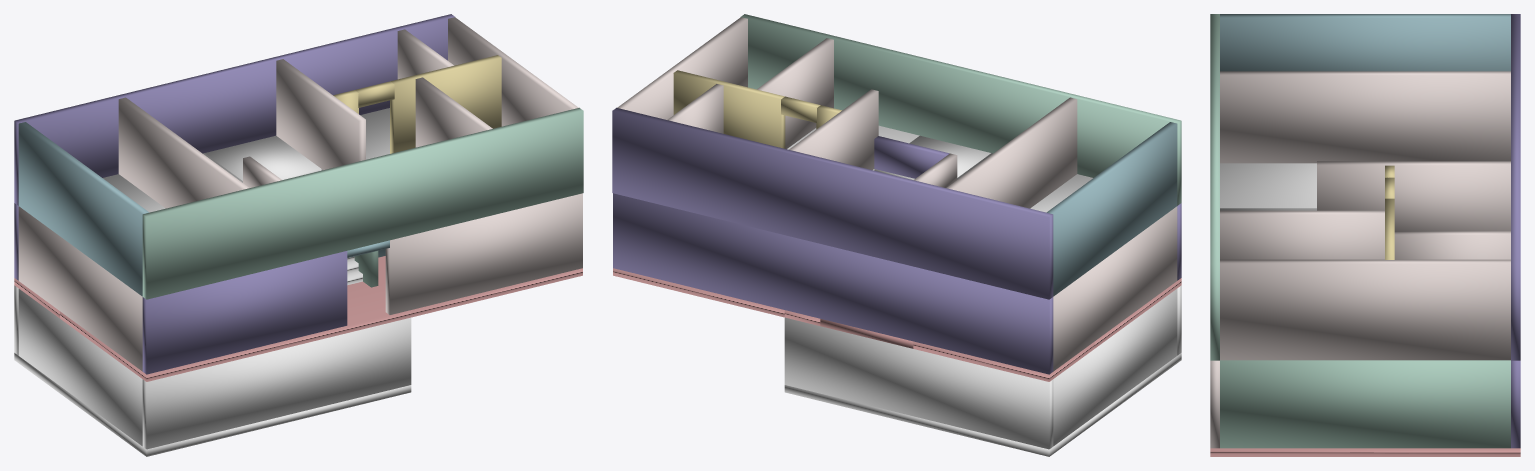
The model's file is interiormockup_mdl.fbx.
The picture shows the model from 3 angles, left to right: view 1: azimuth 30°, elevation 25°; view 2: azimuth 150°, elevation 25°; view 3: azimuth 270°, elevation 25°; orthographic projection. The views are drawn at different scales.
Visible parts, largest first — view 1: Cube.036, Cube.037, Cube.029, Cube.005, Cube.002, Cube.034, Cube, Cube.031, Cube.040, Cube.039, Cube.046, Cube.035 (+11 smaller); view 2: Cube.037, Cube.003, Cube.036, Cube.030, Cube.034, Cube, Cube.031, Cube.040, Cube.035, Cube.046, Cube.039, Cube.044 (+11 smaller); view 3: Cube.035, Cube.040, Cube.001, Cube.034, Cube.039, Cube.044, Cube.021, Cube.037, Cube.036, Cube.045, Cube.025, Cube.003 (+2 smaller).
Boxes of the visible parts, left/top/right/bottom form: Cube.036: left=142, top=107, right=583, bottom=299; Cube.037: left=14, top=14, right=454, bottom=205; Cube.029: left=142, top=317, right=411, bottom=449; Cube.005: left=142, top=251, right=347, bottom=374; Cube.002: left=385, top=193, right=582, bottom=314; Cube.034: left=18, top=122, right=149, bottom=296; Cube: left=18, top=206, right=142, bottom=371; Cube.031: left=18, top=289, right=142, bottom=446; Cube.040: left=118, top=97, right=249, bottom=208; Cube.039: left=276, top=59, right=365, bottom=169; Cube.046: left=390, top=55, right=501, bottom=153; Cube.035: left=448, top=17, right=578, bottom=126; Cube.037: left=612, top=107, right=1053, bottom=299; Cube.003: left=613, top=193, right=1053, bottom=374; Cube.036: left=741, top=14, right=1181, bottom=205; Cube.030: left=784, top=317, right=1053, bottom=449; Cube.034: left=1046, top=122, right=1177, bottom=296; Cube: left=1053, top=206, right=1177, bottom=371; Cube.031: left=1053, top=289, right=1177, bottom=446; Cube.040: left=946, top=97, right=1077, bottom=208; Cube.035: left=617, top=17, right=747, bottom=119; Cube.046: left=673, top=70, right=785, bottom=148; Cube.039: left=789, top=89, right=878, bottom=169; Cube.044: left=757, top=38, right=833, bottom=149; Cube.035: left=1220, top=259, right=1510, bottom=360; Cube.040: left=1220, top=71, right=1510, bottom=163; Cube.001: left=1220, top=360, right=1510, bottom=448; Cube.034: left=1220, top=14, right=1510, bottom=71; Cube.039: left=1317, top=161, right=1510, bottom=230; Cube.044: left=1220, top=210, right=1384, bottom=259; Cube.021: left=1220, top=163, right=1316, bottom=208; Cube.037: left=1511, top=14, right=1520, bottom=360; Cube.036: left=1210, top=14, right=1219, bottom=360; Cube.045: left=1394, top=231, right=1510, bottom=259; Cube.025: left=1210, top=448, right=1520, bottom=456; Cube.003: left=1511, top=360, right=1520, bottom=448.
Bounding box in the file's own units: 6.11 × 3.2 × 3.2.
